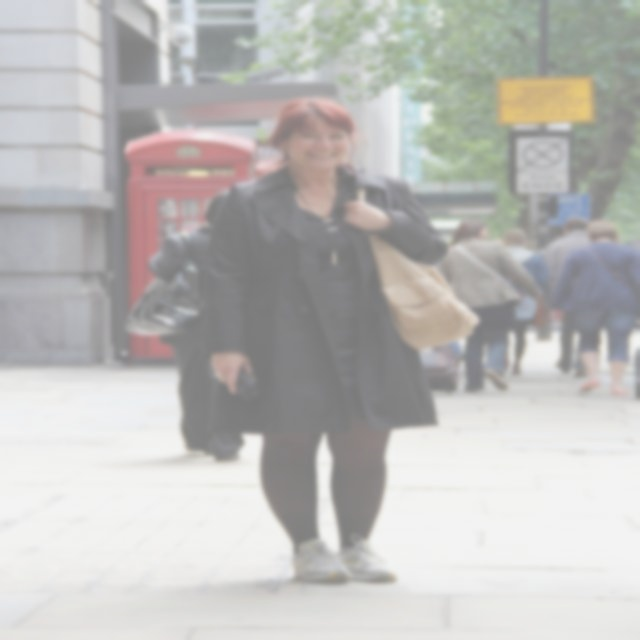pessoa: (202, 96, 479, 584), (147, 188, 230, 460), (434, 219, 544, 392), (548, 219, 640, 395), (542, 218, 596, 376), (498, 228, 550, 376), (479, 230, 544, 250), (441, 327, 471, 365)
